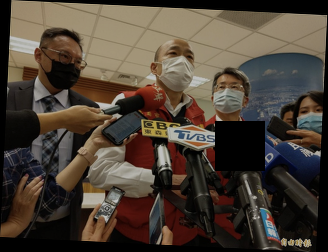with_mask: (41, 45, 83, 90), (156, 44, 195, 92), (213, 80, 247, 114), (296, 102, 323, 134)
